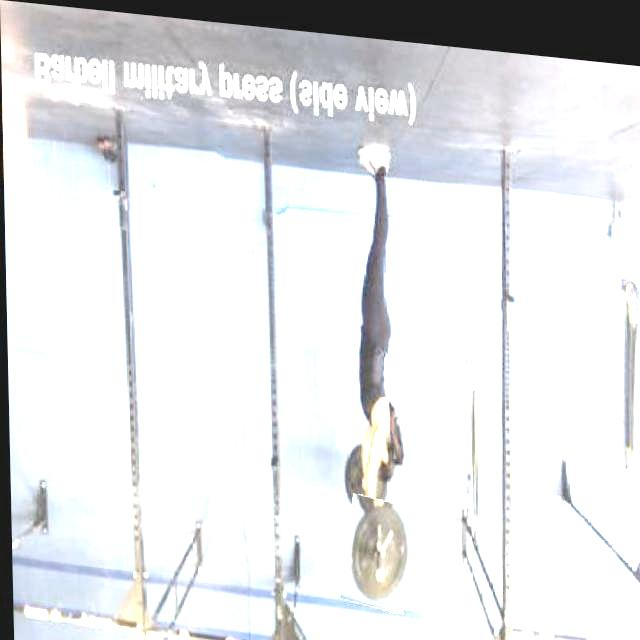barbell: (340, 487, 414, 605)
